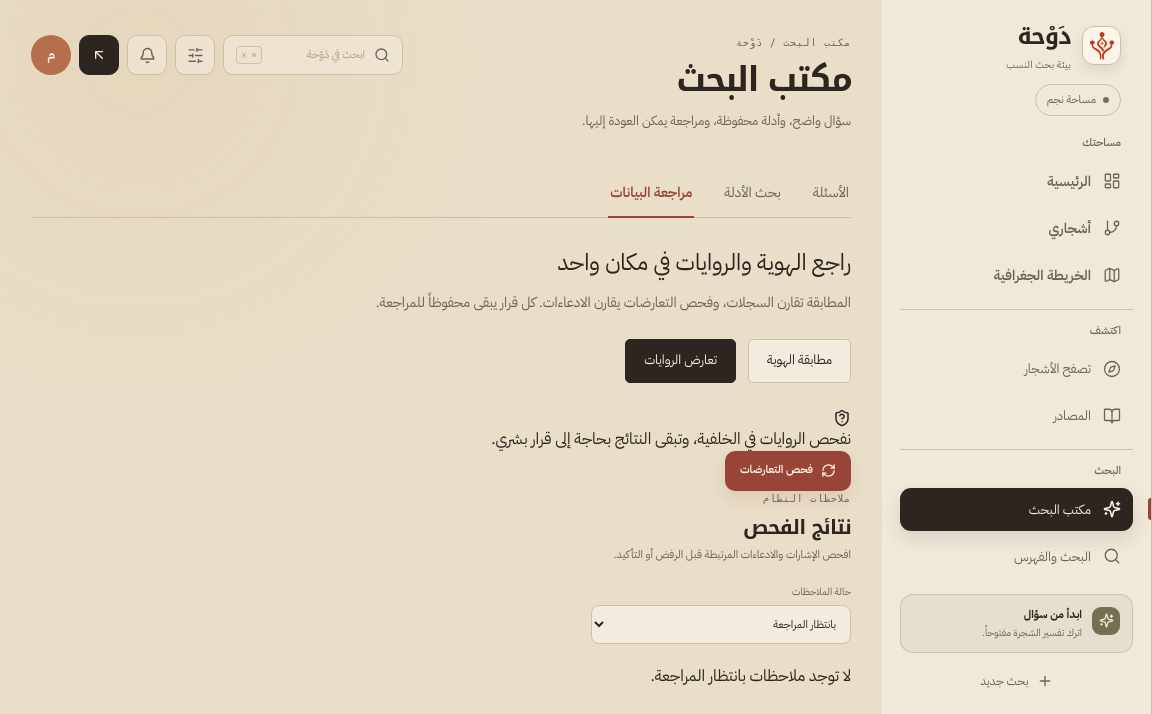
Test case: refreshes findings when a queued contradiction scan completes
The width and height of the screenshot is (1152, 714).
Click the button "فحص التعارضات": x=788, y=471 [725,451,851,491]
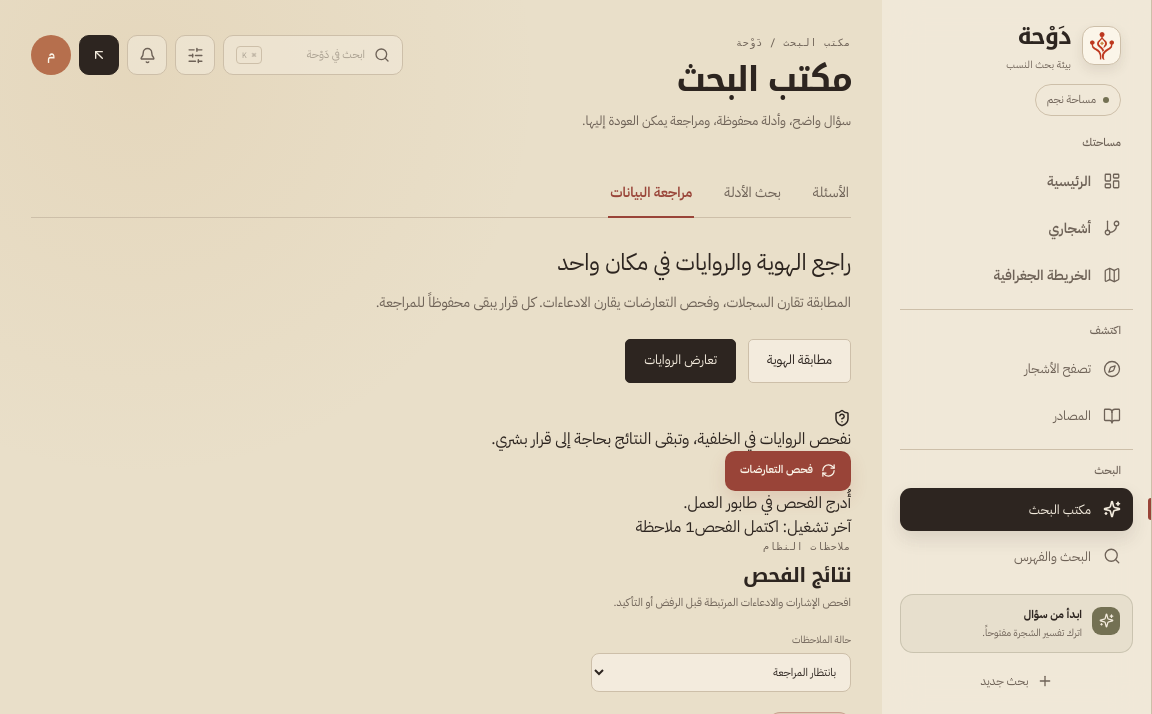
Check: the text "اكتمل الفحص" is shown, box [695,515,779,539]
